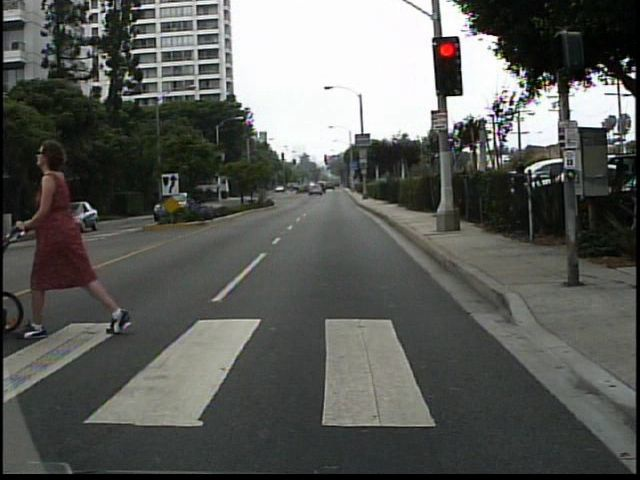person: (24, 130, 124, 340)
